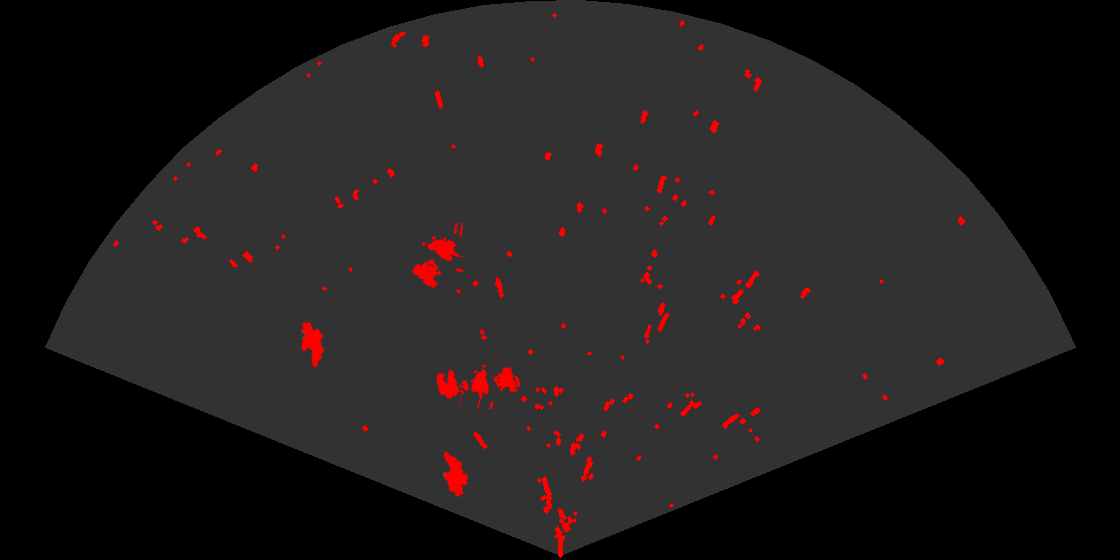AUV: (442, 450, 470, 499), (299, 320, 325, 370)
ball: (435, 368, 470, 401)
cage: (410, 223, 463, 290), (459, 363, 518, 409)
